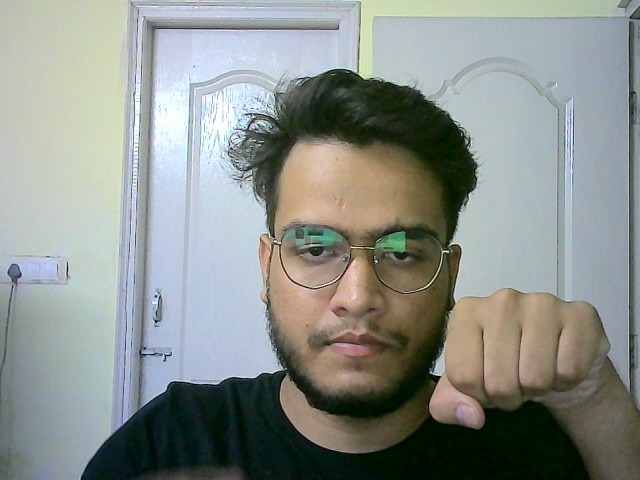Yes: (429, 289, 609, 431)
